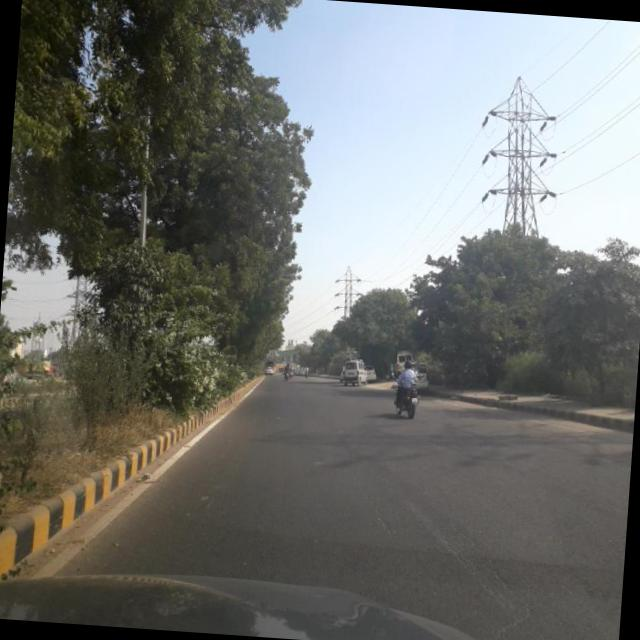pothole: (325, 452, 404, 560), (440, 530, 528, 615)
